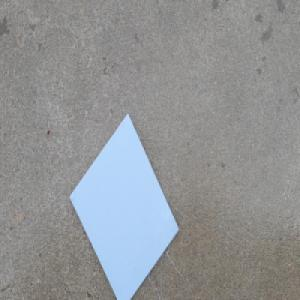PaintChip: (68, 111, 180, 300)
